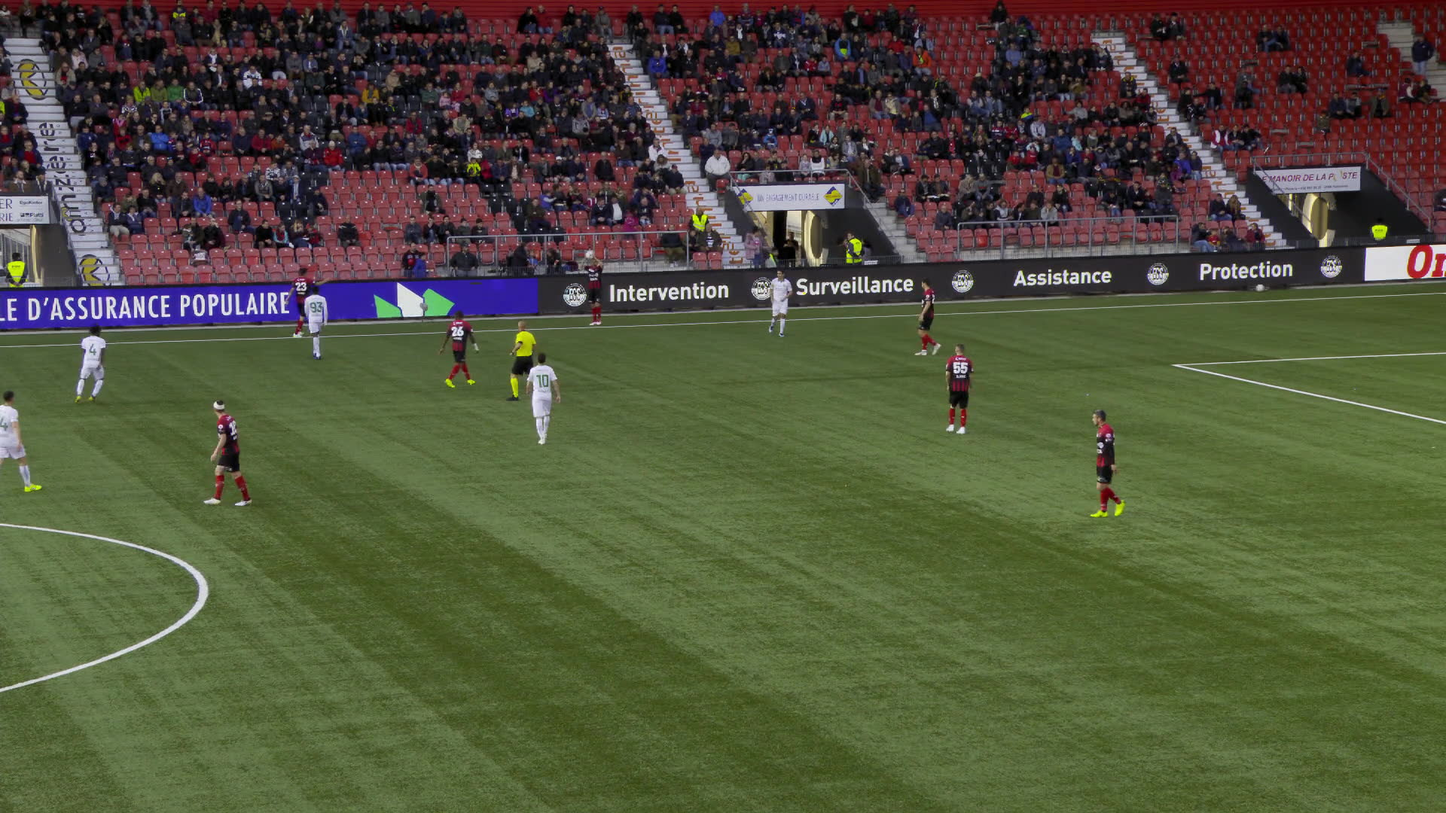ball: (584, 251, 593, 260)
player: (203, 400, 252, 506), (0, 391, 41, 491), (1089, 408, 1124, 516), (525, 352, 560, 443), (438, 310, 479, 387), (285, 268, 328, 339), (945, 343, 972, 433), (75, 324, 105, 403), (914, 279, 940, 354), (304, 287, 328, 359), (579, 255, 604, 324), (770, 269, 792, 337)
referee: (505, 320, 535, 400)
